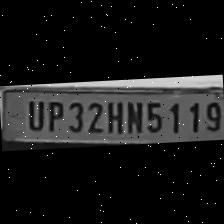1: (163, 98, 184, 134), (182, 97, 202, 133)
2: (82, 96, 104, 134)
3: (63, 96, 83, 132)
5: (140, 96, 164, 132)
9: (199, 96, 223, 132)
H: (102, 96, 124, 132)
N: (122, 96, 142, 134)
P: (43, 95, 65, 131)
U: (22, 96, 44, 130)
